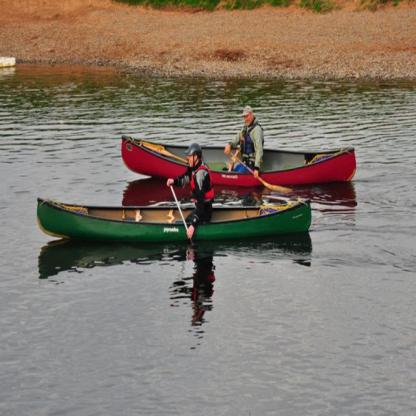face: (188, 155, 195, 168), (246, 113, 252, 126)
